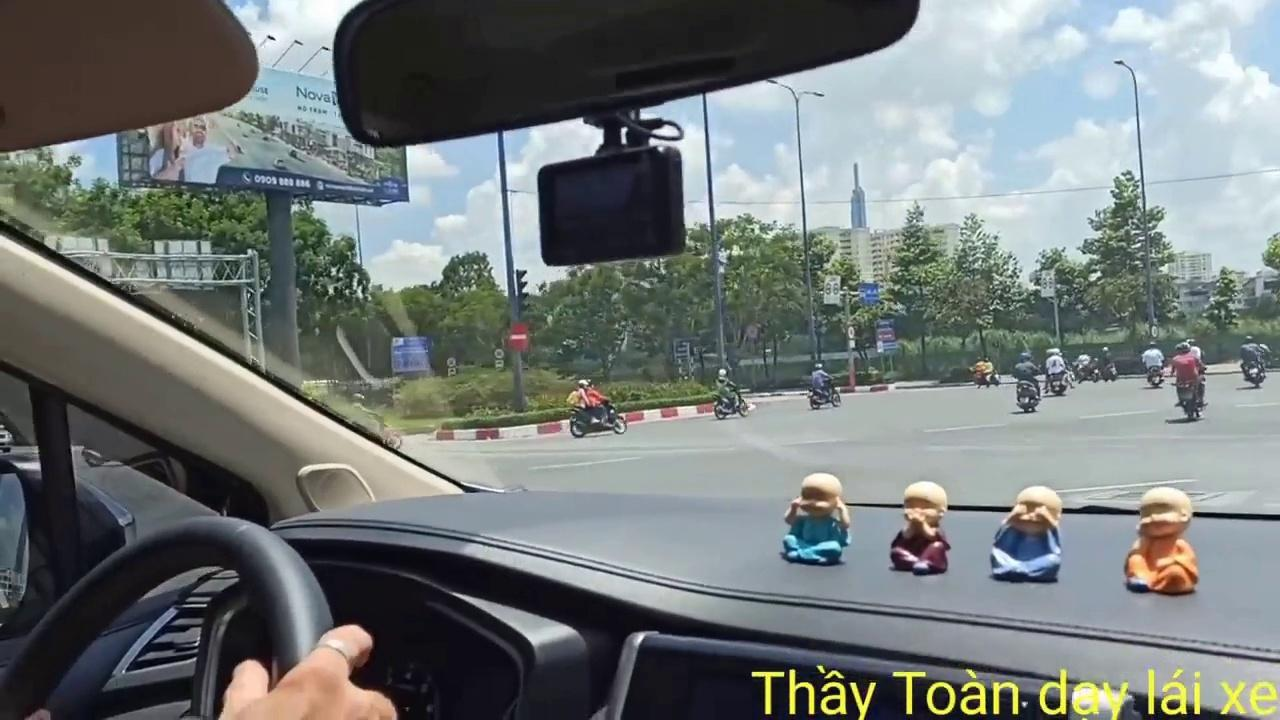Cấm cac phương tiện hoạt động trong khung giờ cố định: (824, 274, 840, 304)
Cấm đi ngược chiều: (501, 319, 534, 353)
Khác: (392, 335, 429, 373), (875, 319, 898, 354)
Làn đường cho từng xe: (858, 282, 880, 306)
